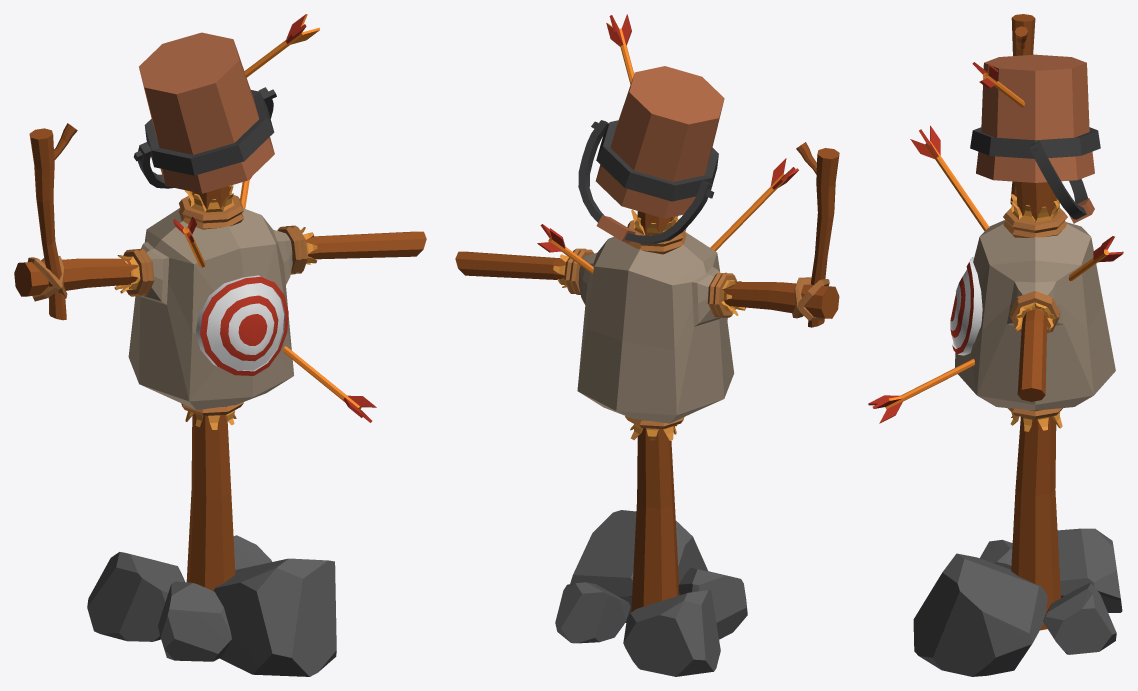
File: Manequin.fbx
The picture shows the model from 3 angles, left to right: view 1: azimuth 30°, elevation 25°; view 2: azimuth 150°, elevation 25°; view 3: azimuth 270°, elevation 25°; orthographic projection. The views are drawn at different scales.
Visible parts, largest first — view 1: Circle; view 2: Circle; view 3: Circle.
Boxes of the visible parts, left/top/right/bottom form: Circle: left=14, top=14, right=426, bottom=676; Circle: left=455, top=14, right=839, bottom=676; Circle: left=868, top=14, right=1123, bottom=676.
Size of the model in its own units: 176 by 265 by 102.
